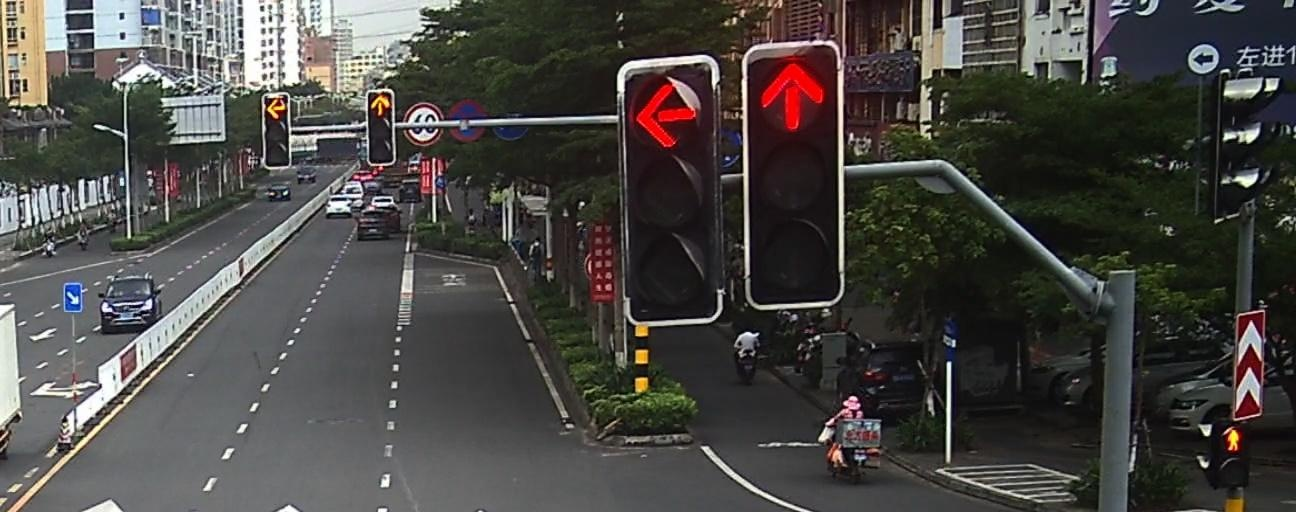redleft: (633, 78, 701, 149), (263, 96, 287, 123)
redpeople: (1220, 425, 1246, 454)
redstraight: (757, 59, 828, 135), (368, 93, 393, 118)
